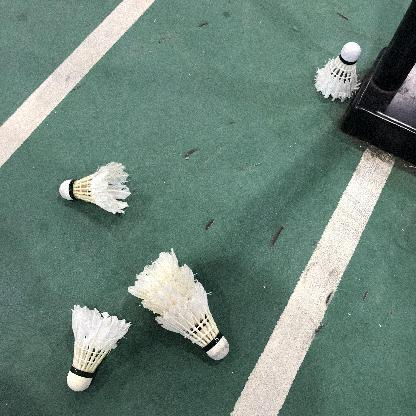ball_single: (128, 248, 229, 360), (67, 304, 131, 391), (59, 161, 131, 214), (315, 42, 361, 102)
